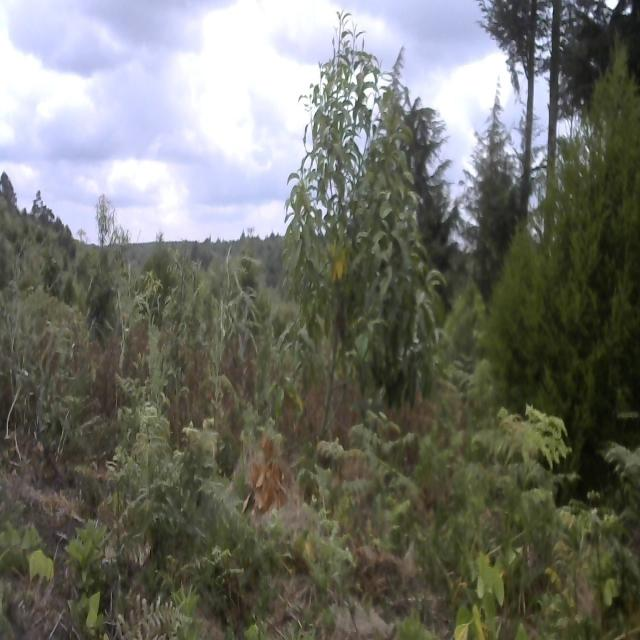Juniperus procesera: (490, 38, 640, 454), (377, 52, 458, 286), (464, 65, 536, 290)
Olea welwitchii: (300, 19, 458, 502)
